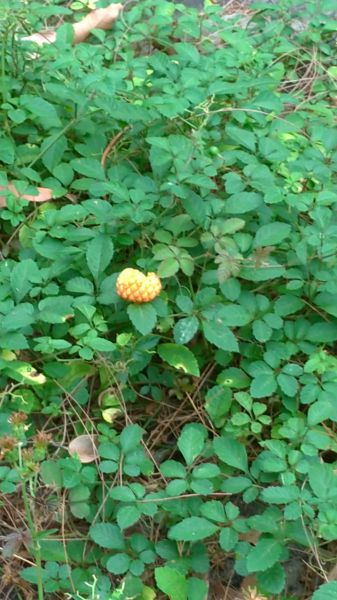eggs: (110, 264, 166, 304)
